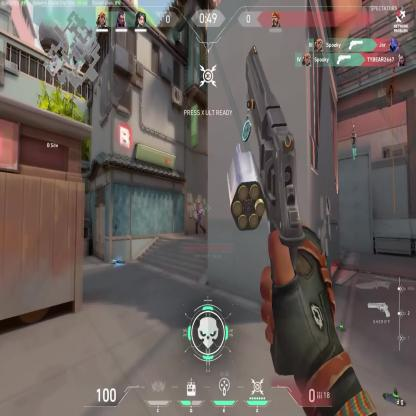enemy: (195, 202, 205, 235)
enemy_head: (198, 203, 200, 209)
